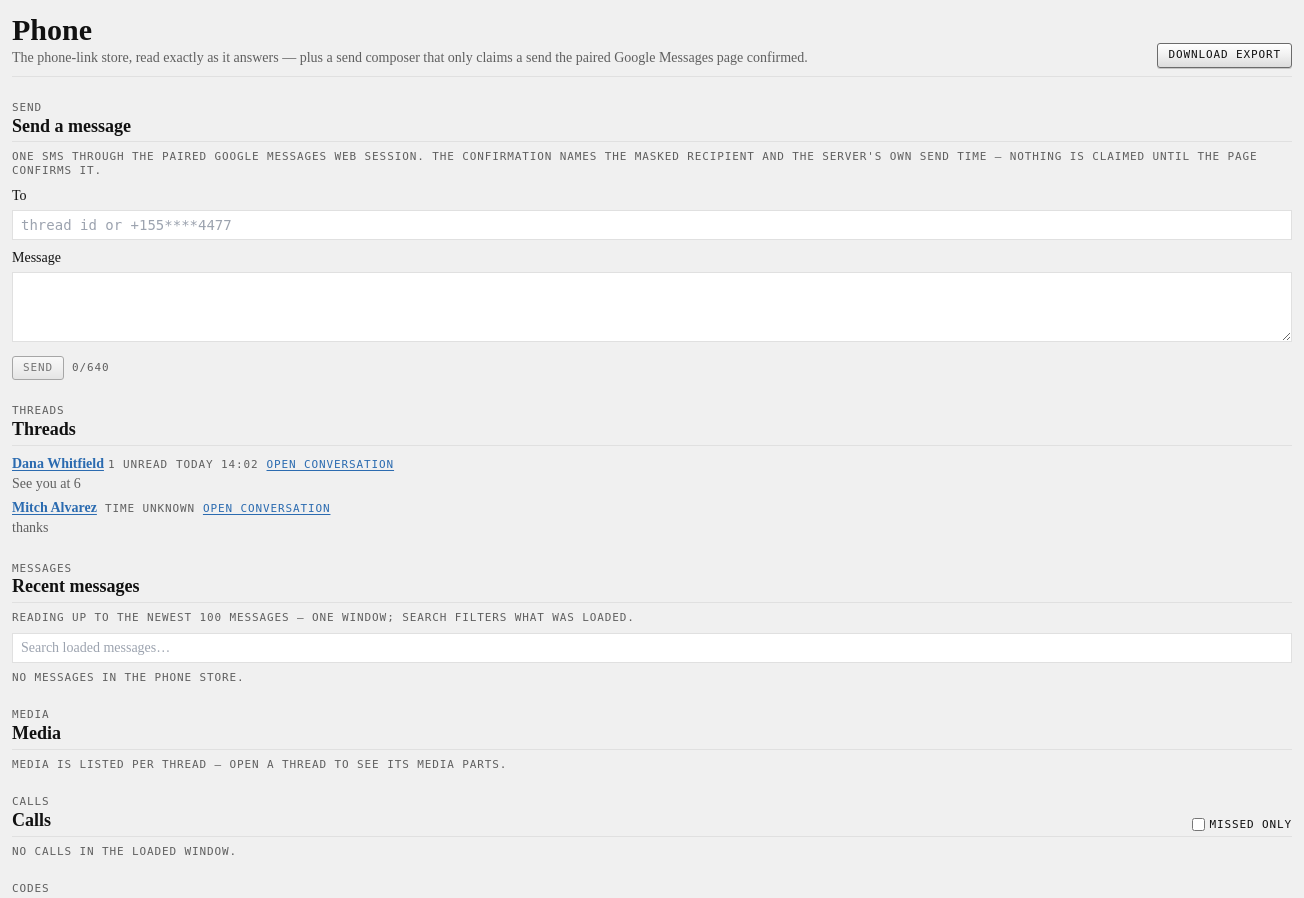
phone send composer — success claims only what the server observed › renders `sent at HH:MM` with the masked recipient, and posts exactly {to, body}
The width and height of the screenshot is (1304, 898).
Type "+15550104477" into the field with test id "phone-send-to" at (652, 225), box top-left (12, 210), bottom-right (1292, 240)
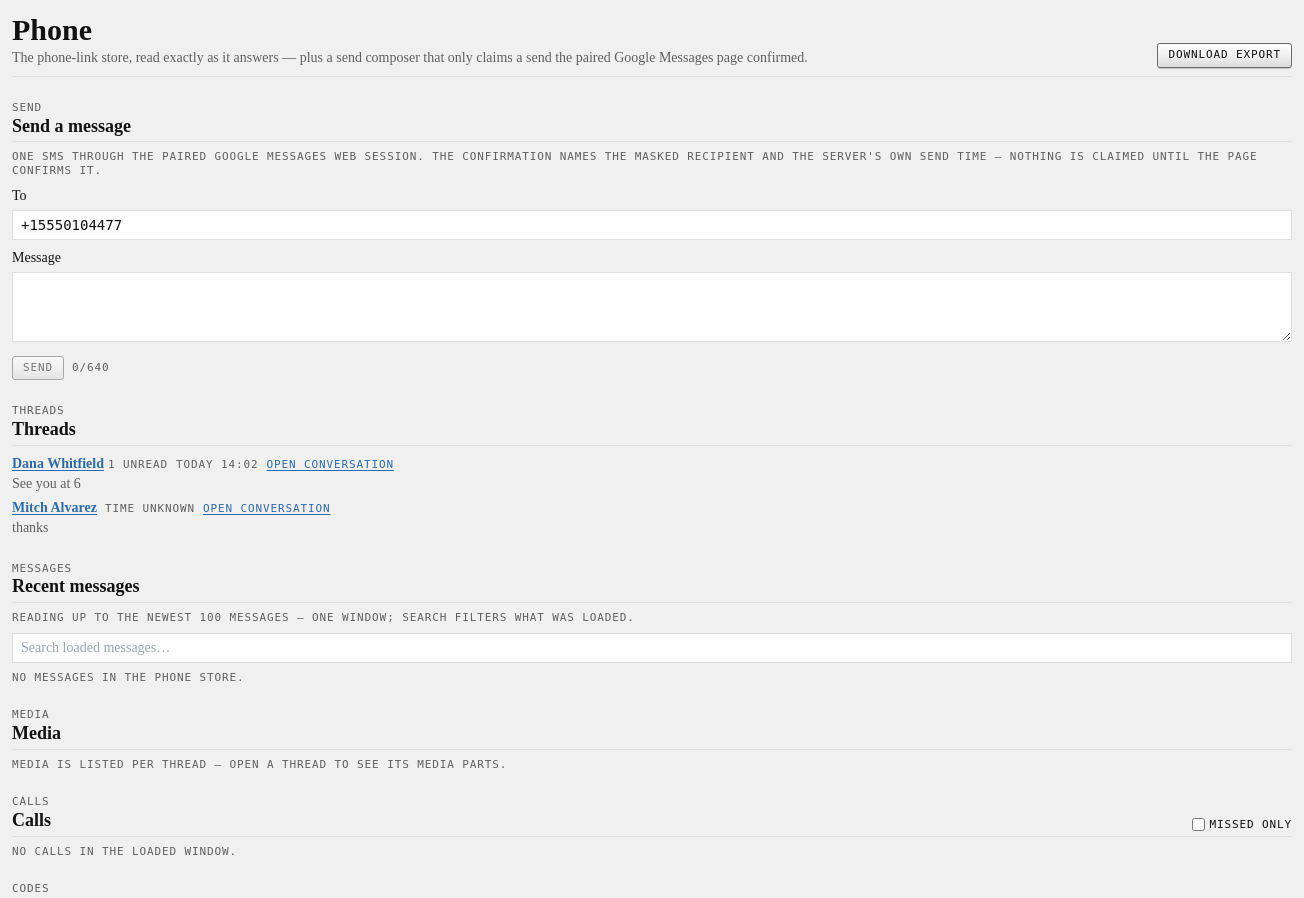
Type "Running late, sorry!" into the text box with test id "phone-send-body" at (652, 307), box top-left (12, 272), bottom-right (1292, 342)
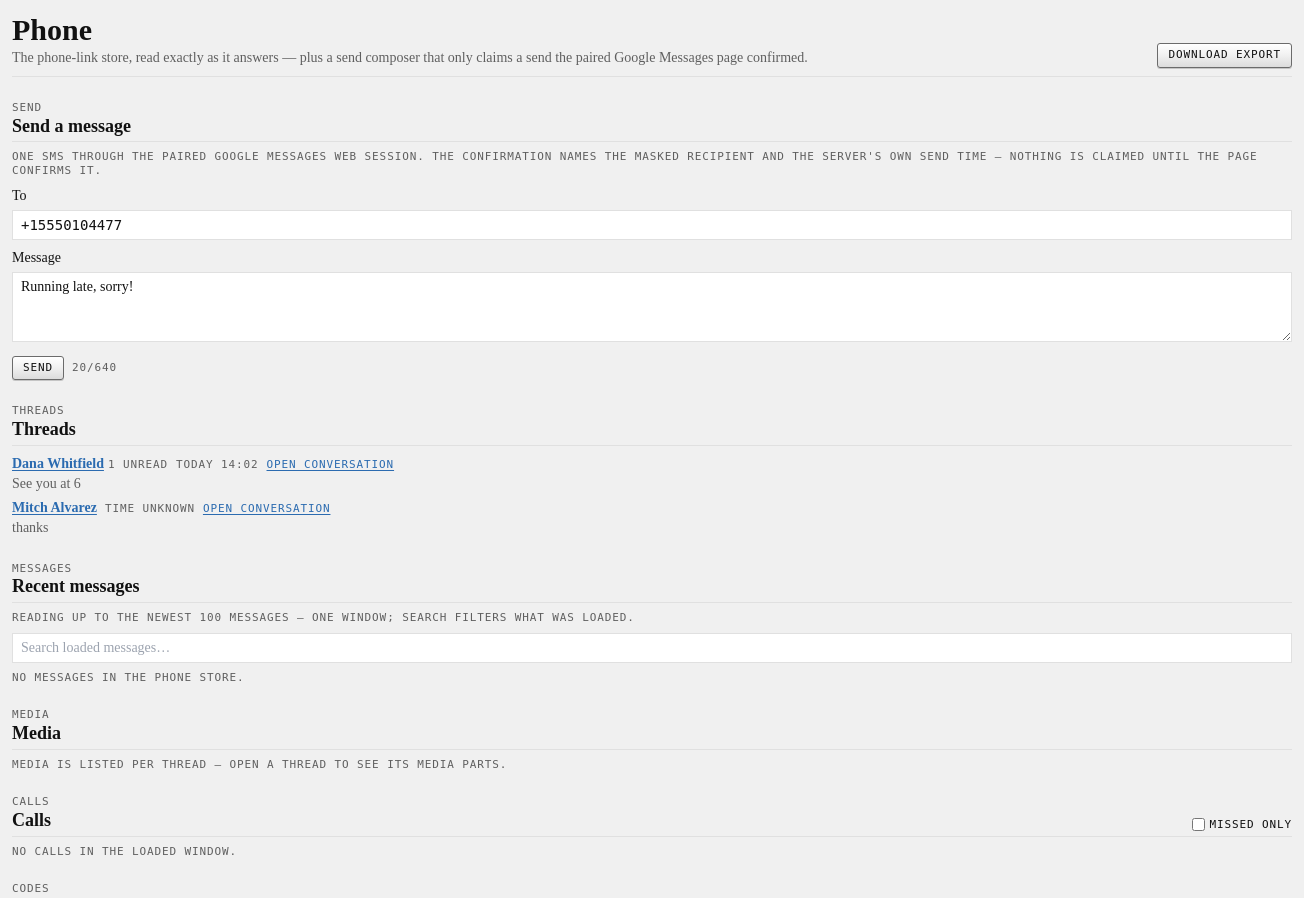
Click the button with test id "phone-send-submit" at (38, 368), box top-left (12, 356), bottom-right (64, 380)
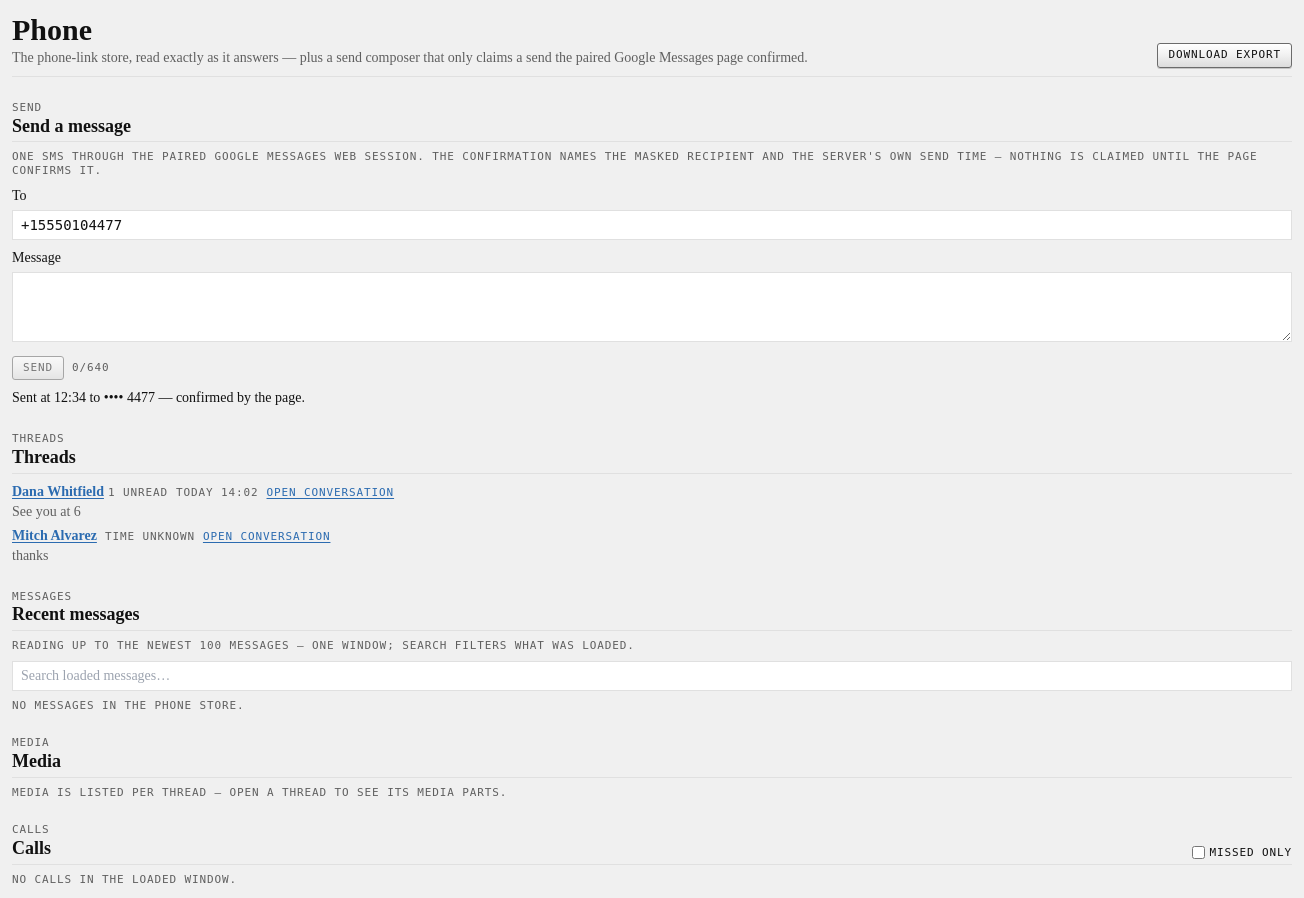
Check: the message with test id "phone-send-result" shows "Sent at 12:34", box top-left (12, 390), bottom-right (305, 405)
Check: the message with test id "phone-send-result" shows "•••• 4477", box top-left (104, 390), bottom-right (155, 405)
Check: the text box with test id "phone-send-body" is empty, box top-left (12, 272), bottom-right (1292, 342)
